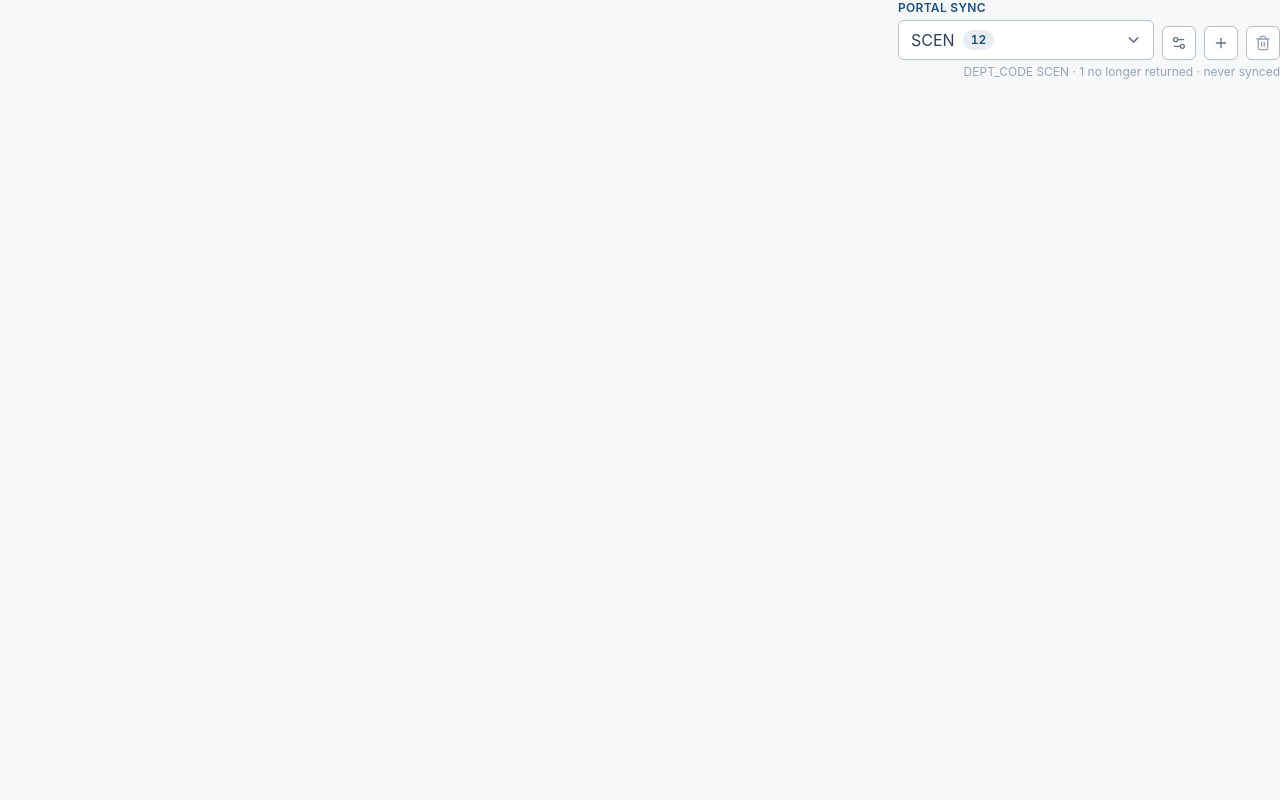
choosing a portal filter › shows an administrator what the filter asks the portal
The image size is (1280, 800).
Click the button named "What SCEN asks the portal". click: x=1179, y=43
box: [1162,26,1196,60]
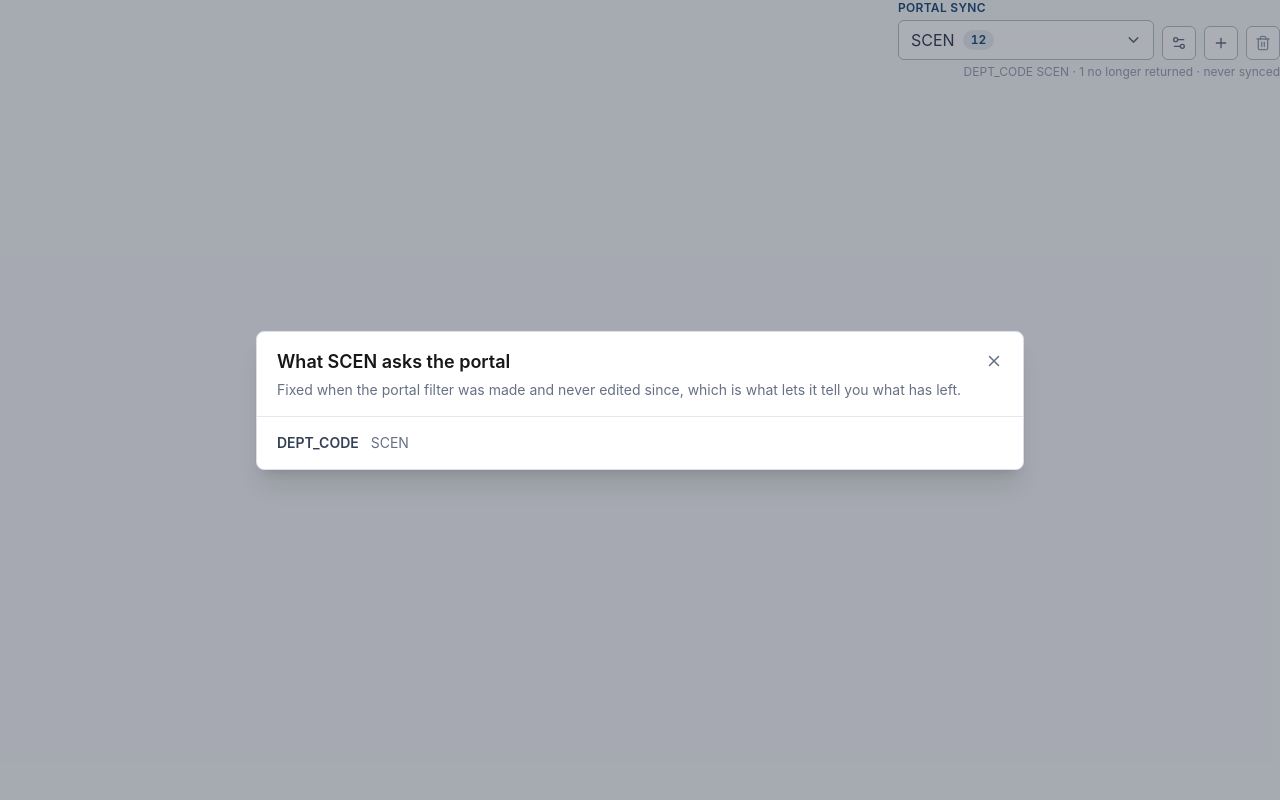
Expected: the text "Fixed when the portal filter was made" is shown, [277,380,961,398]
